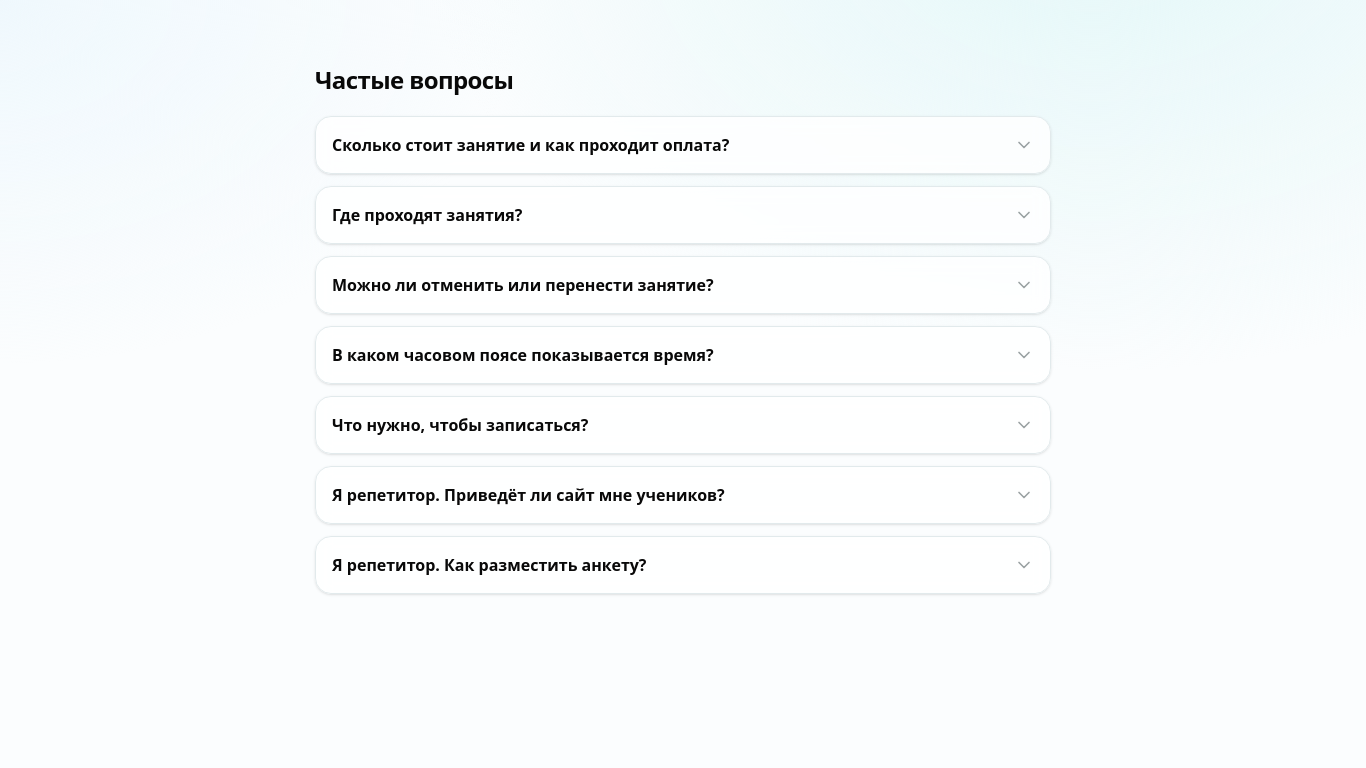
Test: HomeFaq › starts with every answer collapsed and opens one at a time
The image size is (1366, 768).
Click the button "Сколько стоит занятие и как проходит оплата?" at (683, 145), box left=316, top=117, right=1050, bottom=173
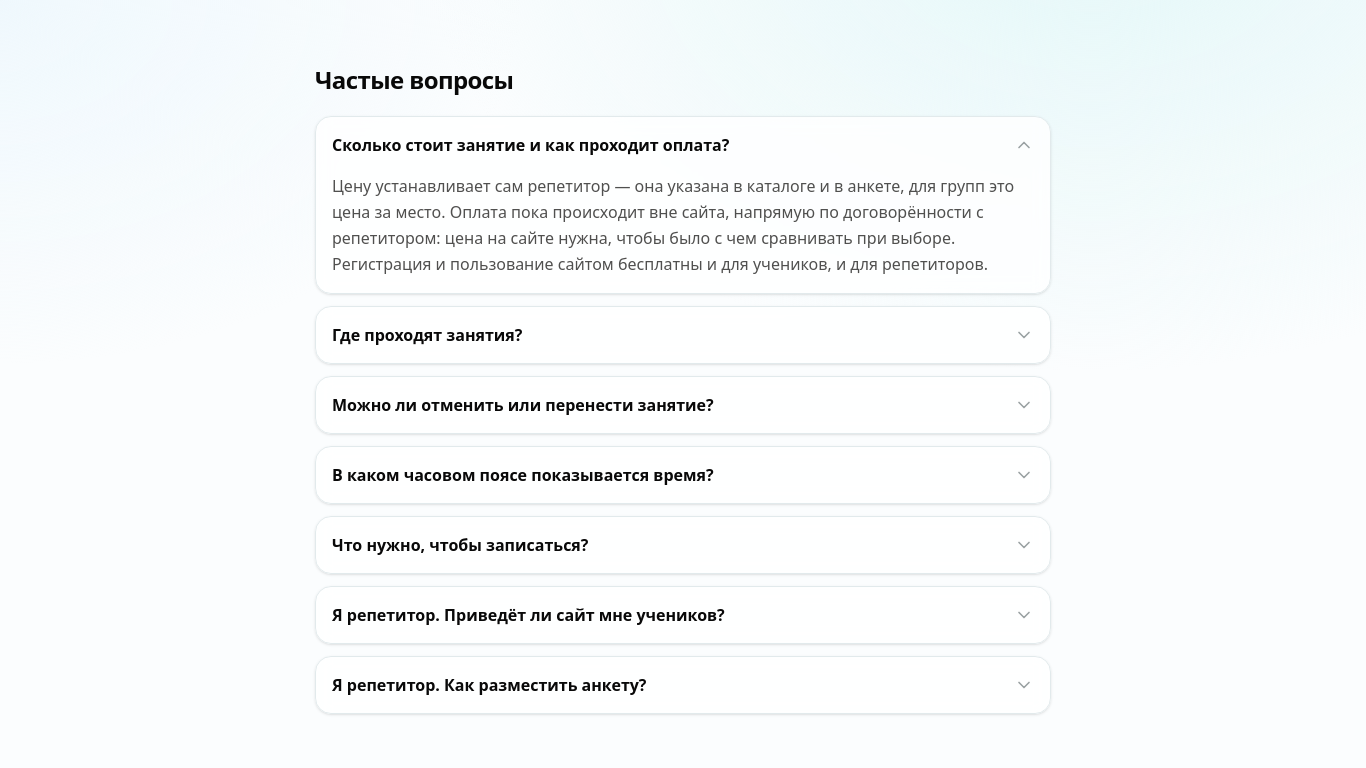
Expected: the button "Сколько стоит занятие и как проходит оплата?" is expanded, left=316, top=117, right=1050, bottom=173
Click the button "Где проходят занятия?" at (427, 335), box left=316, top=307, right=1050, bottom=363
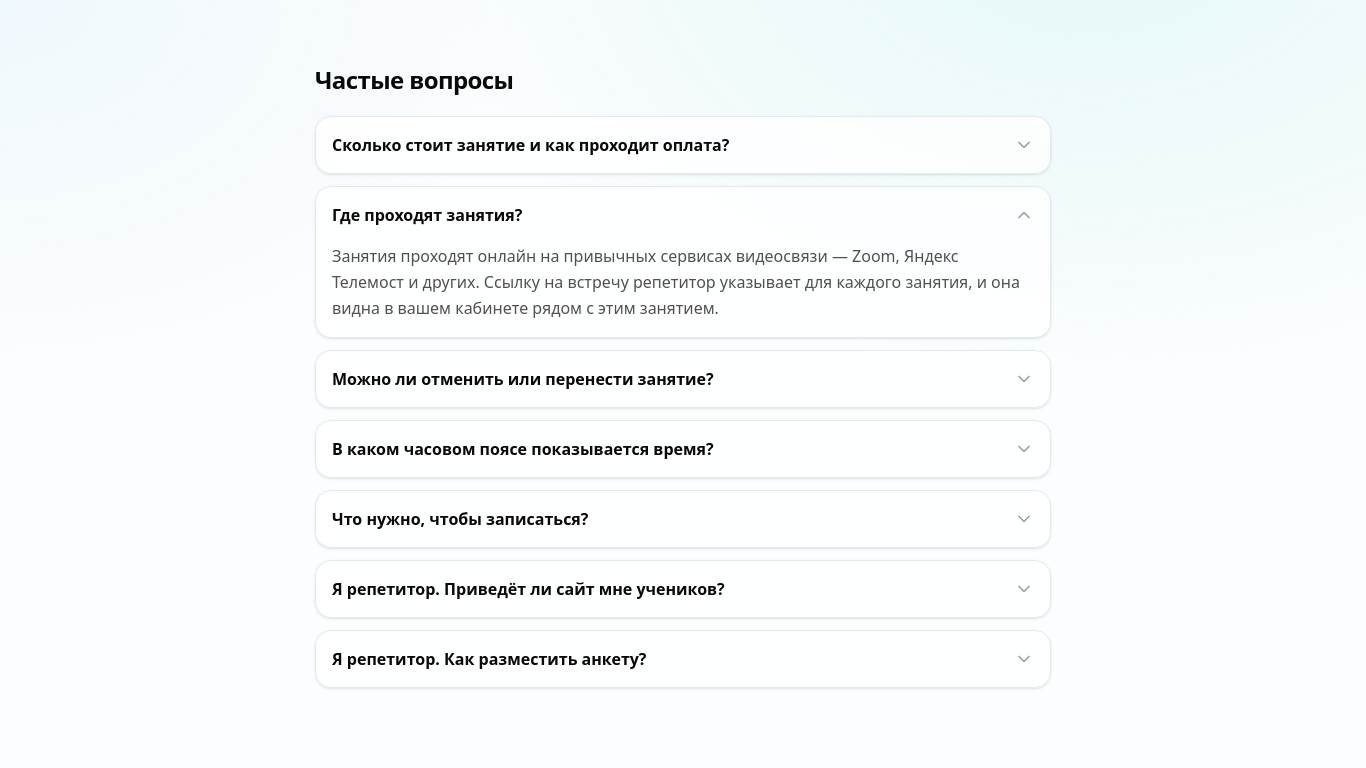
Expected: the button "Сколько стоит занятие и как проходит оплата?" is collapsed, left=316, top=117, right=1050, bottom=173
Expected: the button "Где проходят занятия?" is expanded, left=316, top=187, right=1050, bottom=243
